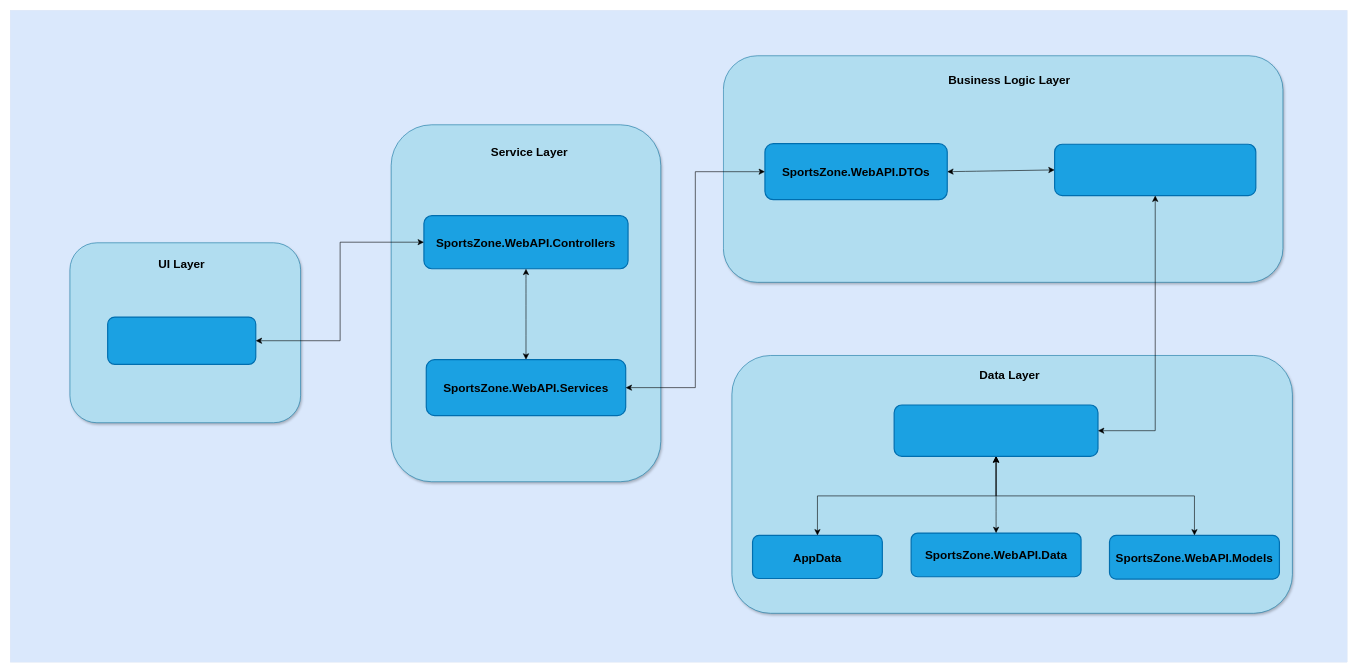
Some shapes in this 1357 by 672 pixel diagram are drawn without their labels. Each missing label, with the centre of its shape:
"SportsZone.React.App" belongs at point 181,340.
"SportsZone.WebAPI.Mappings" belongs at point 1155,169.
"SportsZone.WebAPI.Repositories" belongs at point 995,430.
